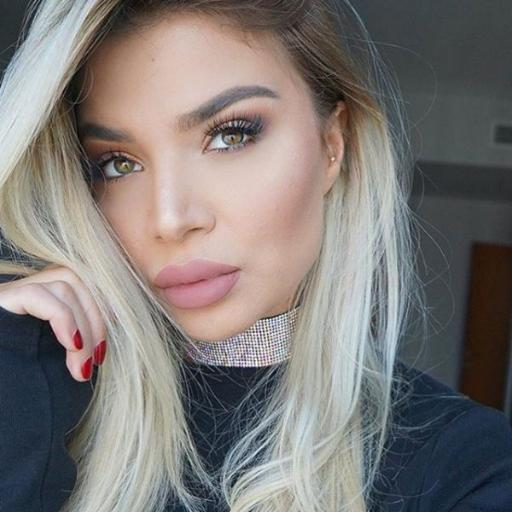left_eye: (204, 120, 262, 157)
left_lip_corner: (230, 265, 247, 281)
right_eye: (95, 154, 147, 185)
